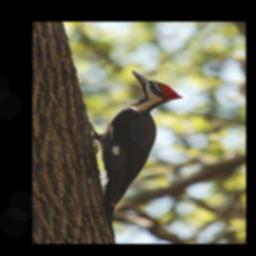Woodpecker: (77, 69, 183, 237)
